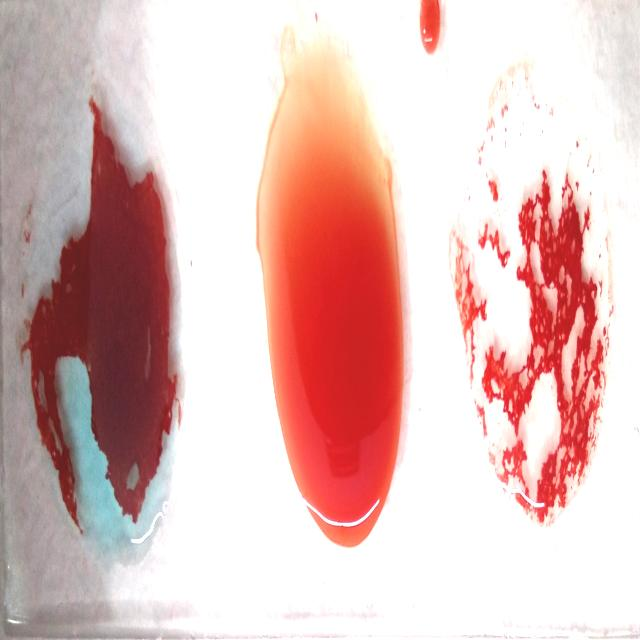A: (28, 69, 192, 562)
D: (456, 84, 614, 530)
